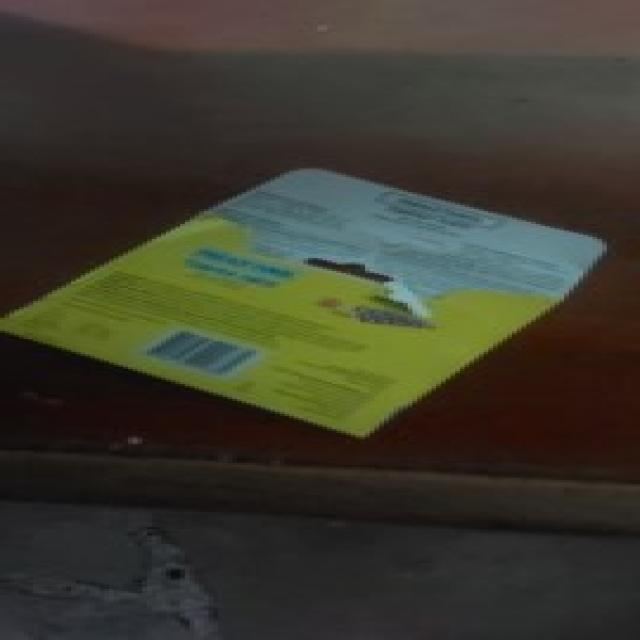Cacat: (0, 162, 612, 446)
Kemasan: (301, 254, 443, 327)
